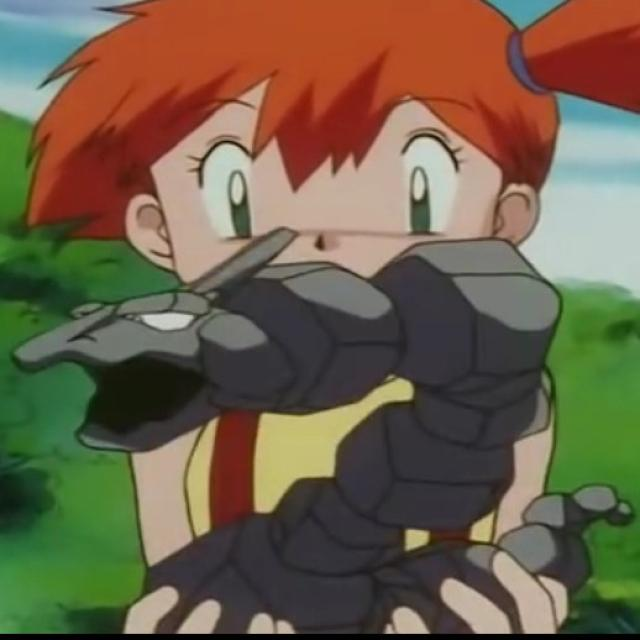Onix: (11, 248, 570, 596)
